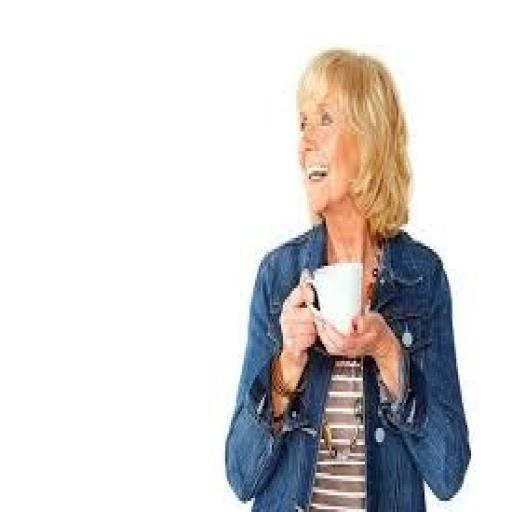drinking: (298, 260, 361, 339)
